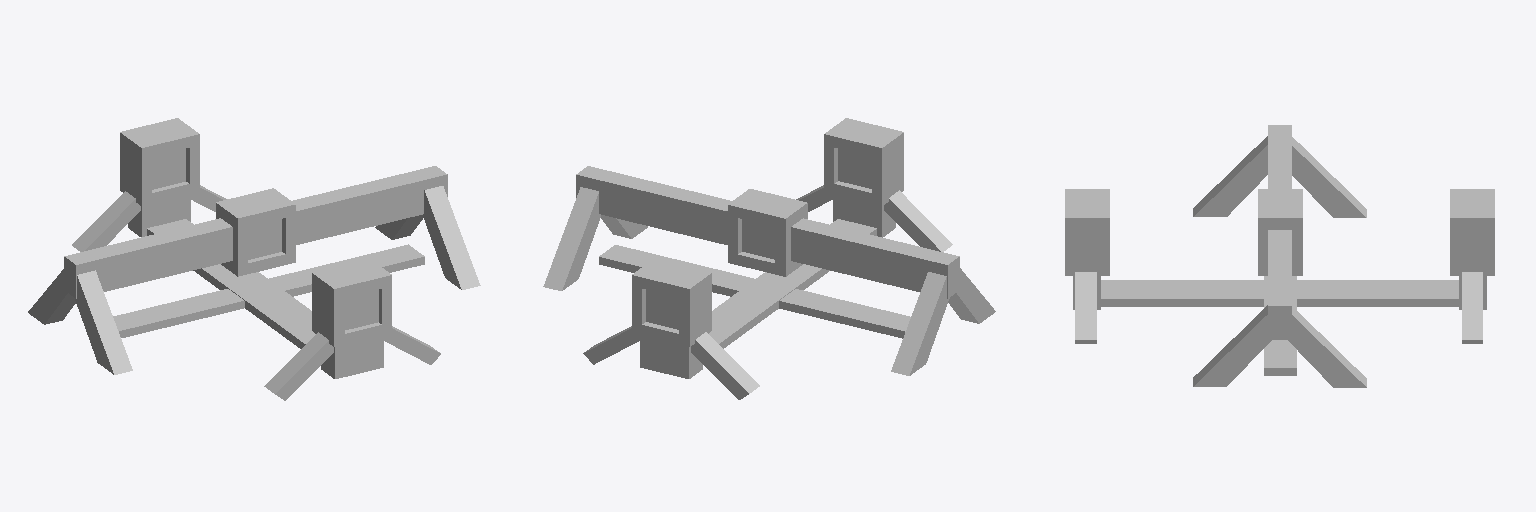
The model's file is millstone.obj.
3 views of the same model, side by side, from view 1: azimuth 30°, elevation 25°; view 2: azimuth 150°, elevation 25°; view 3: azimuth 270°, elevation 25° (orthographic).
Visible parts, largest first — view 1: casing; view 2: casing; view 3: casing.
Part boxes in pixels (x1,y1,x2,y2): casing: (28,118,480,400); casing: (543,118,995,399); casing: (1065,125,1494,387).
Bounding box in the file's own units: 3 × 0.8104 × 3.